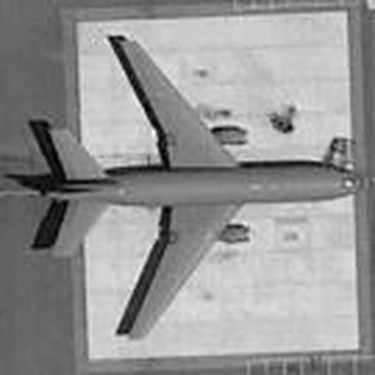airplane: (20, 21, 363, 358)
